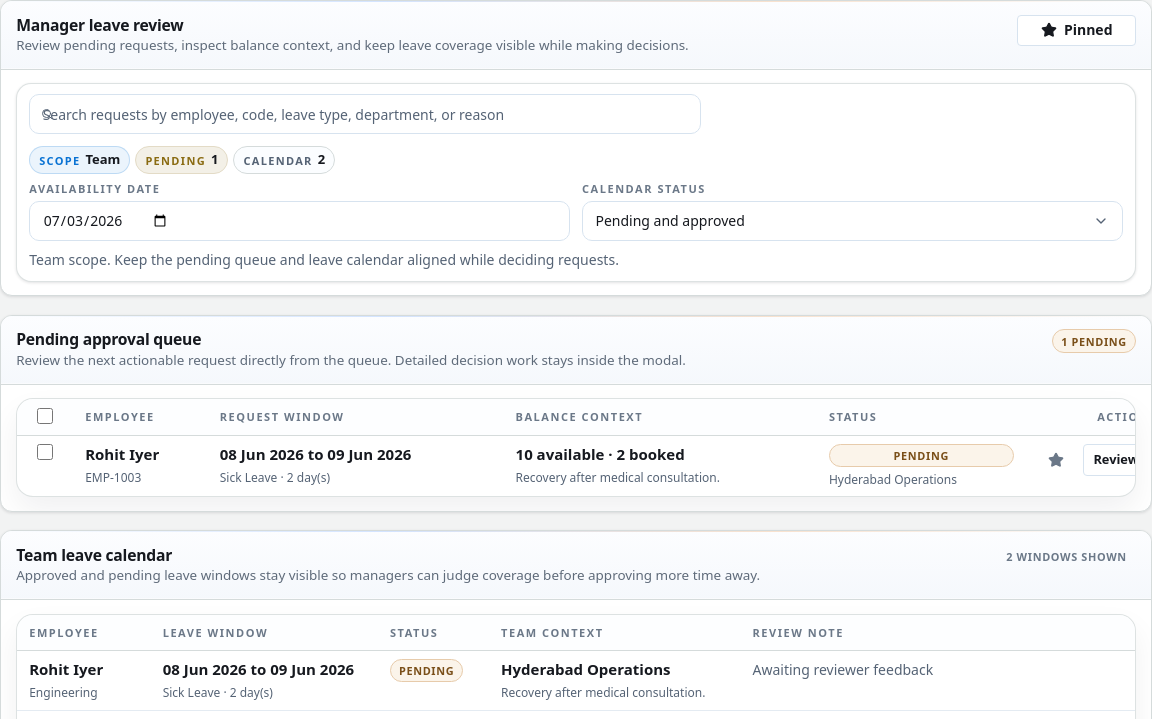
Test: LeaveReviewWorkspace › supports requesting changes from the review queue
This screenshot has width=1152, height=719.
Click the button with aria-label "review rohit iyer": (1116, 460) [1083, 444, 1149, 476]
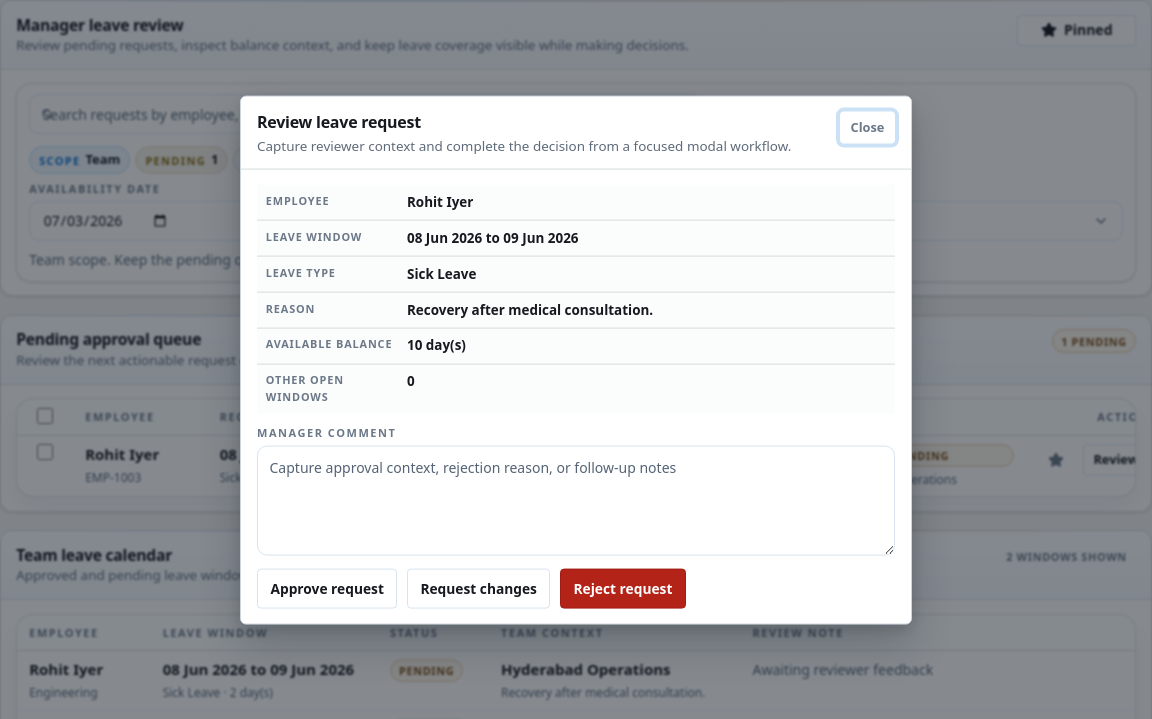
In the text box labelled "Manager comment": (576, 500) [257, 445, 895, 556], type "Please update the coverage handoff notes before this can be approved."
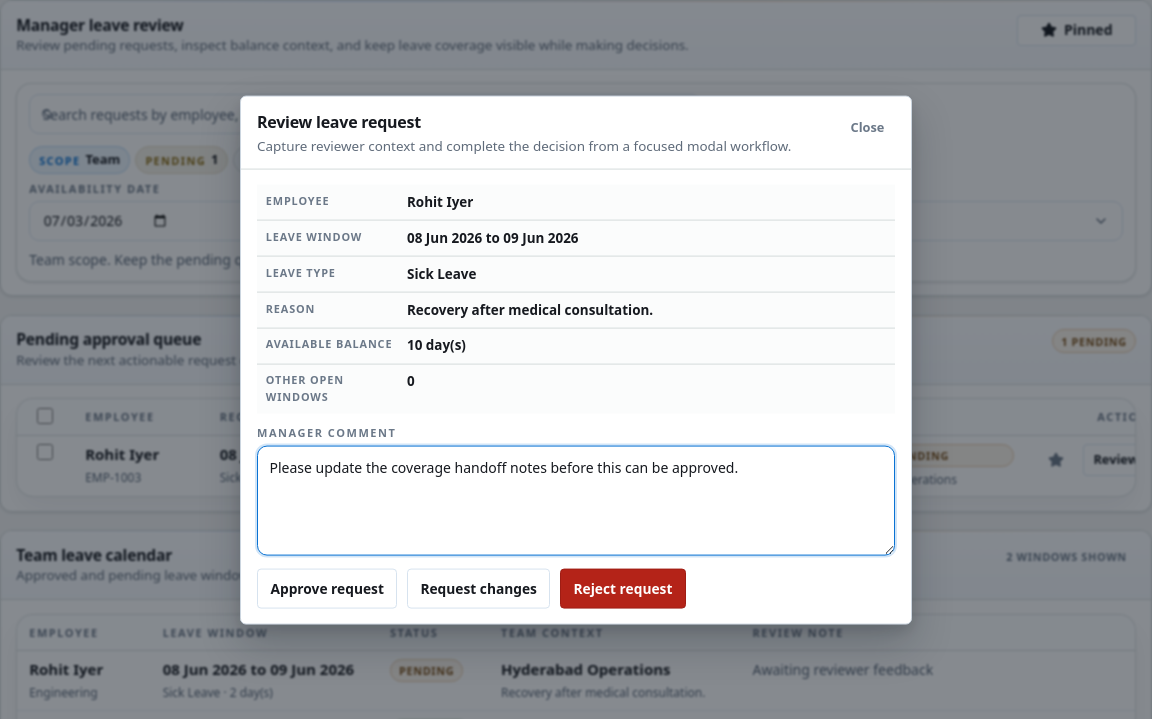
Click the button "Request changes": (479, 588) [407, 568, 550, 608]
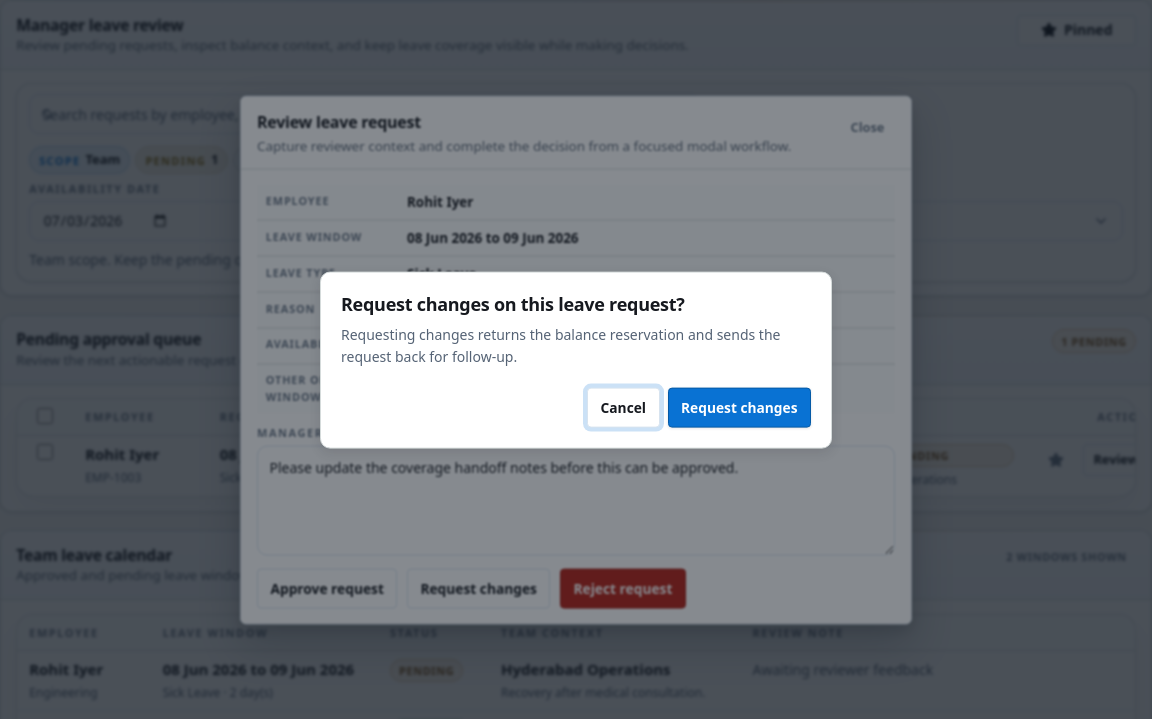
Click the button "Request changes": (739, 407) [668, 387, 811, 427]
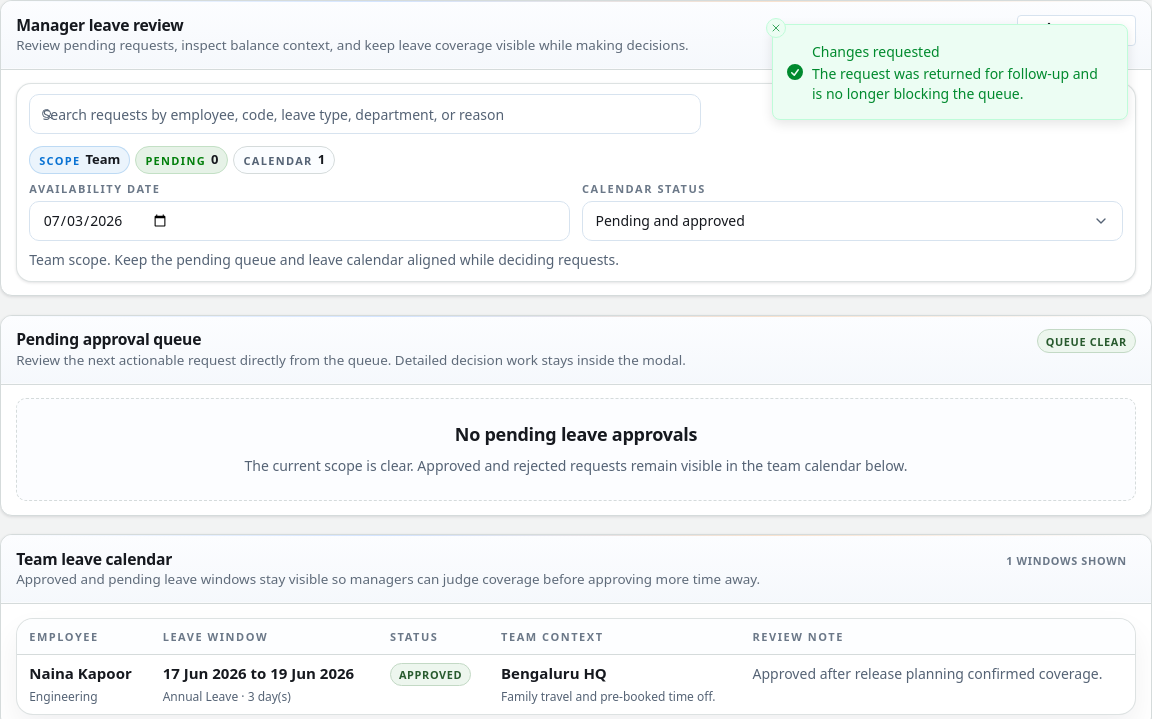
Expected: the text "Changes requested" is shown, [812, 42, 940, 61]
Expected: the text "Queue clear" is shown, [1037, 329, 1136, 353]
Expected: the heading "No pending leave approvals" is shown, [455, 422, 697, 446]
